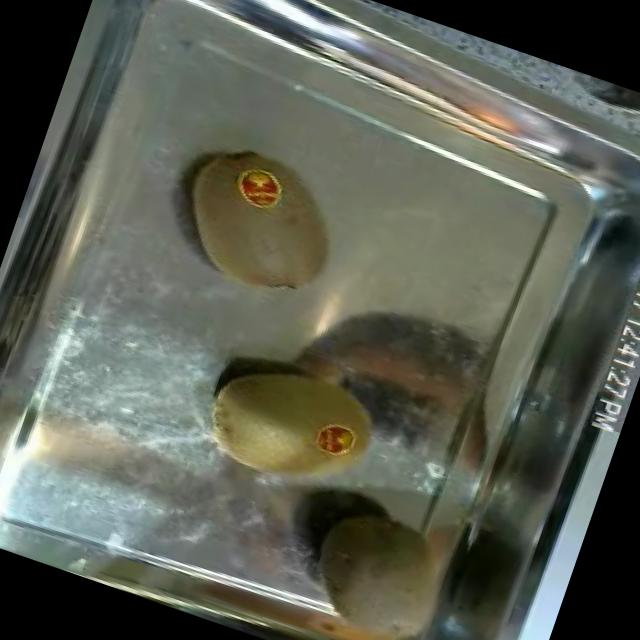Fruit: (153, 128, 359, 320), (185, 332, 398, 514), (275, 480, 485, 640)
